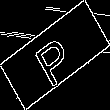P_NW: (30, 24, 80, 86)
